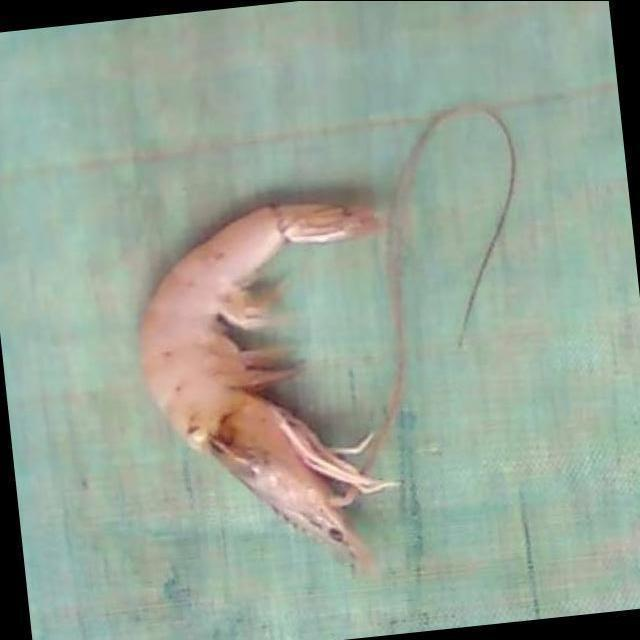shrimp: (139, 202, 396, 566)
